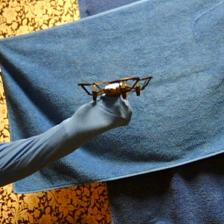drone: (77, 76, 152, 102)
